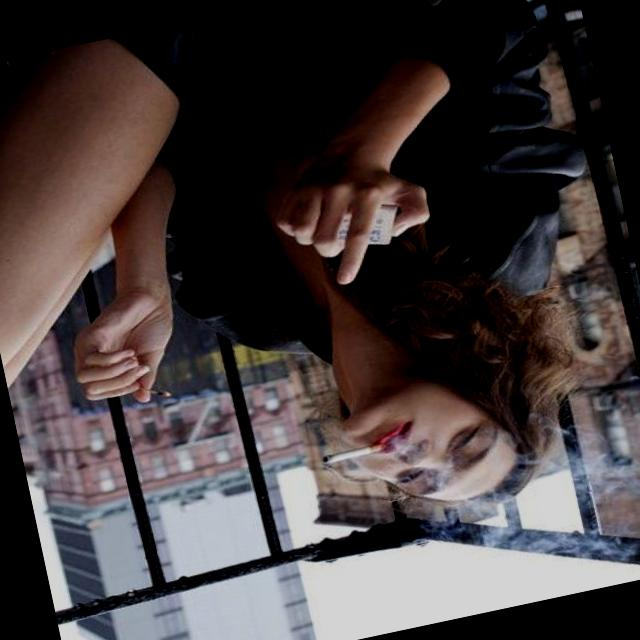cigarette: (299, 425, 408, 480)
